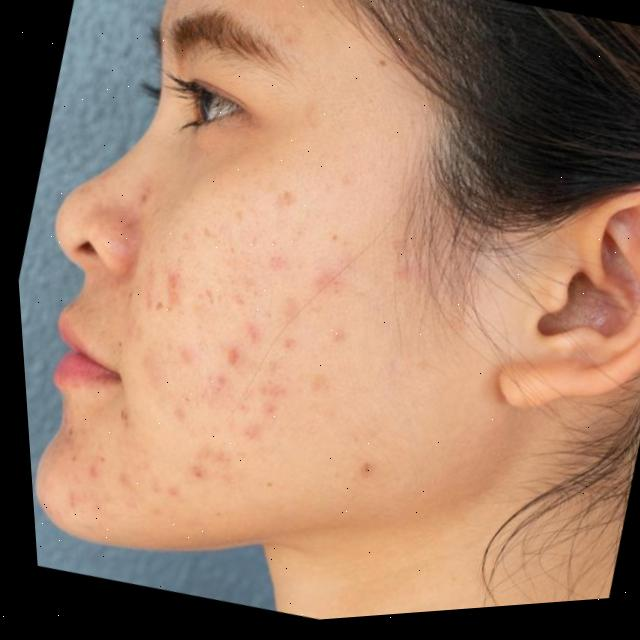Acne: (34, 96, 460, 589)
